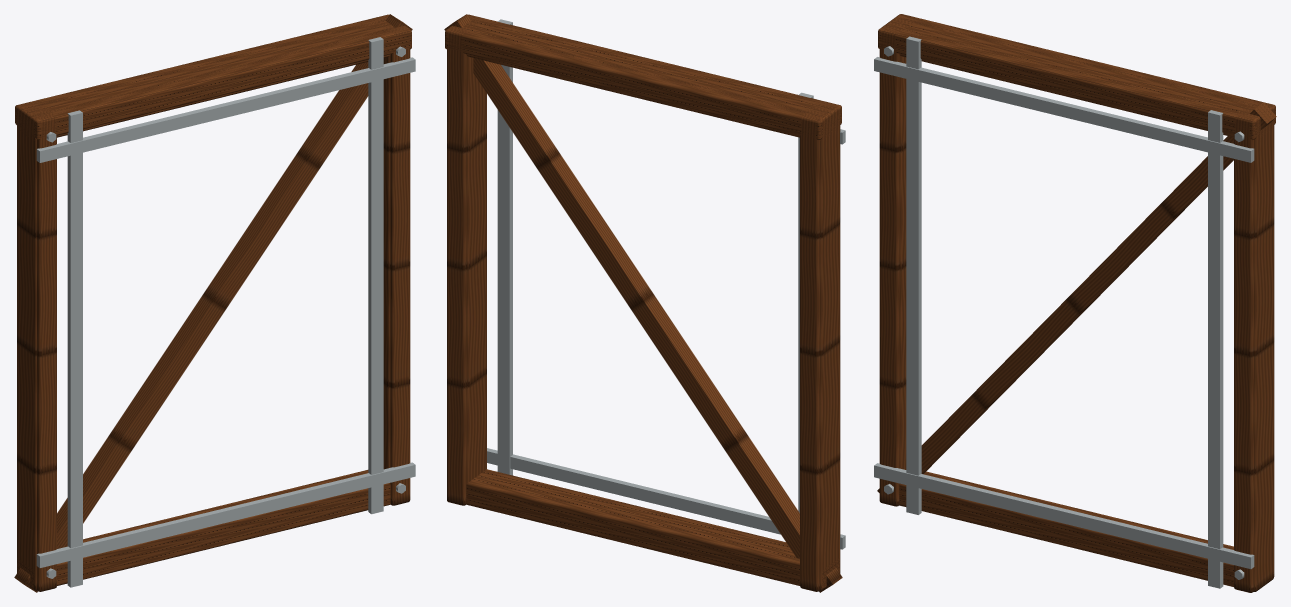
File: modular-survival-base-builder-wall-cross-braced-frame--04d27771__24299.glb
The picture shows the model from 3 angles, left to right: view 1: azimuth 30°, elevation 25°; view 2: azimuth 150°, elevation 25°; view 3: azimuth 330°, elevation 25°; orthographic projection.
Parts seen in each view (by area): view 1: wall-cross-braced-frame-reinforced; view 2: wall-cross-braced-frame-reinforced; view 3: wall-cross-braced-frame-reinforced.
Part boxes in pixels (box(x1,y1,x2,y2)): wall-cross-braced-frame-reinforced: box(14, 14, 415, 592); wall-cross-braced-frame-reinforced: box(444, 14, 845, 592); wall-cross-braced-frame-reinforced: box(874, 14, 1276, 592).
Bounding box in the file's own units: 2.07 × 2.46 × 0.2396.
Materials: 2 (1 with a texture image).
